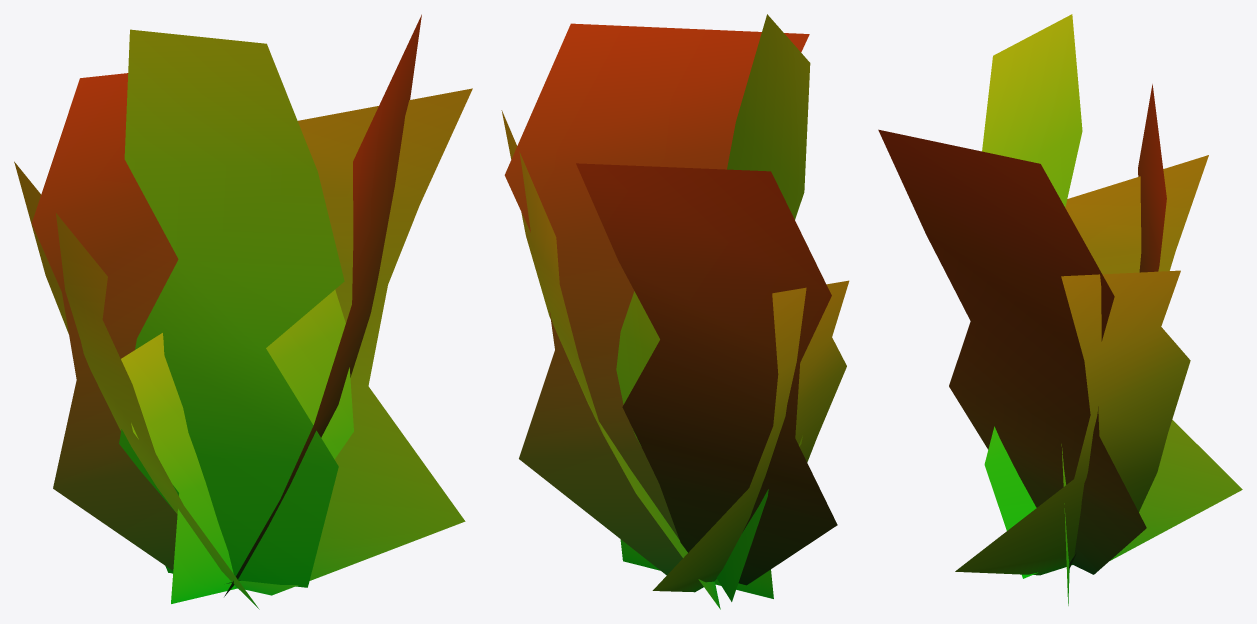
The model's file is Var8Hi46.fbx.
The picture shows the model from 3 angles, left to right: view 1: azimuth 30°, elevation 25°; view 2: azimuth 150°, elevation 25°; view 3: azimuth 270°, elevation 25°; orthographic projection. The views are drawn at different scales.
Parts seen in each view (by area): view 1: bend1; view 2: bend1; view 3: bend1.
Boxes of the visible parts, x1,y1,x2,y2 form: bend1: [14, 14, 472, 609]; bend1: [501, 14, 849, 609]; bend1: [878, 14, 1242, 605].
Size of the model in its own units: 1.26 by 1.77 by 1.15.
